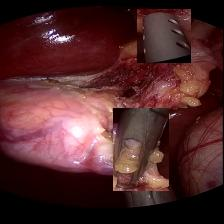Grasper: (113, 107, 169, 190)
Irrigator: (137, 8, 191, 62)
